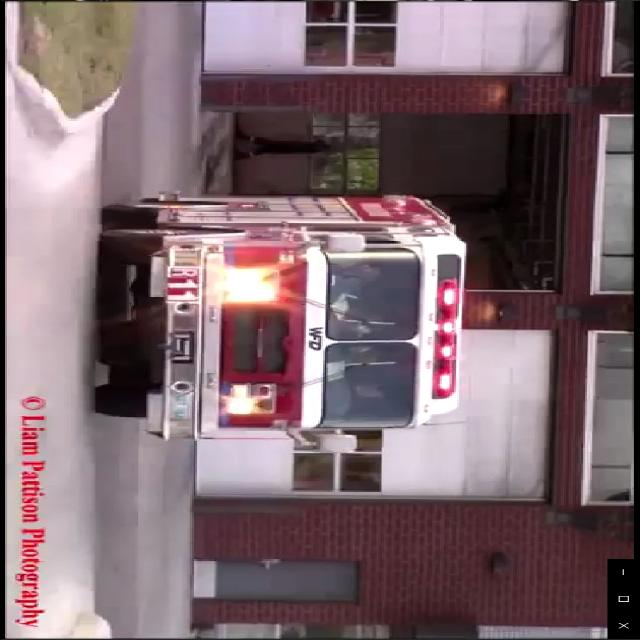emergency: (78, 195, 478, 461)
